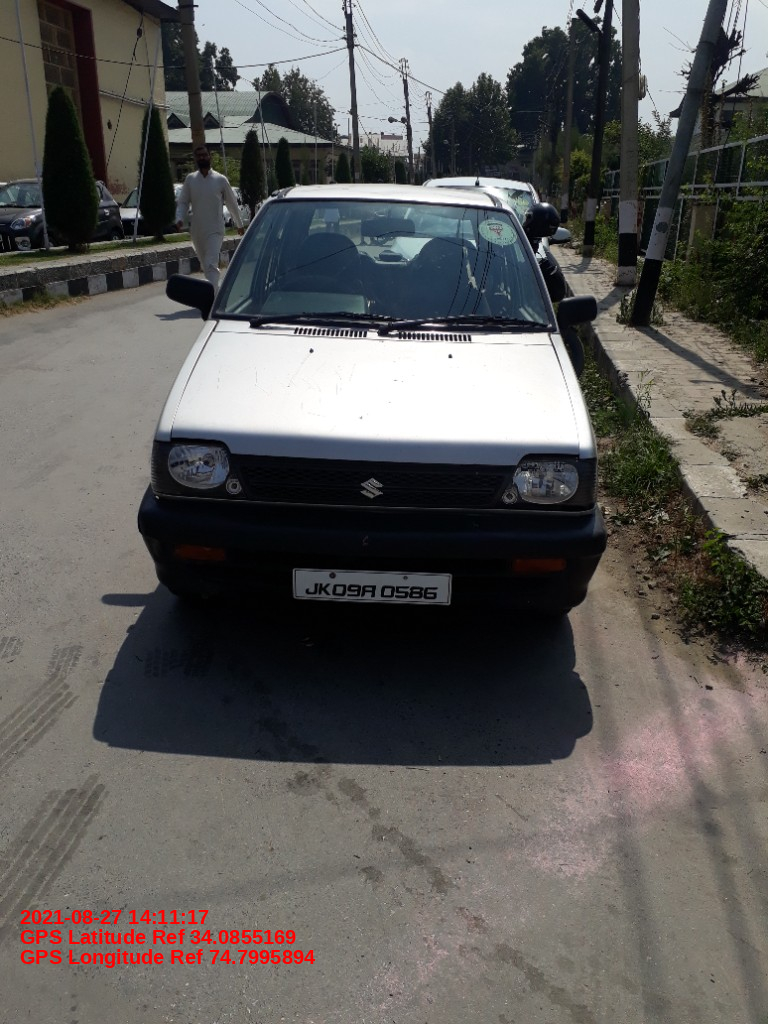Scratched: (215, 354, 368, 423), (381, 358, 419, 411)
